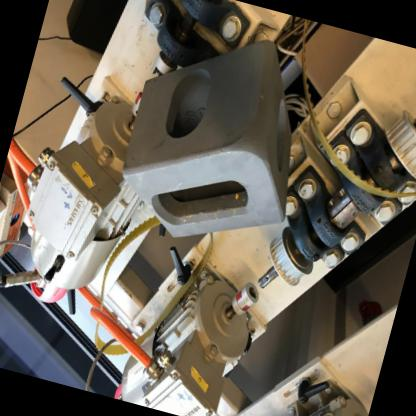CornerCasting: (104, 10, 328, 266)
